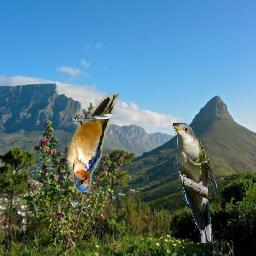Cuckoo: (171, 123, 217, 243)
Swallow: (67, 92, 119, 192)
